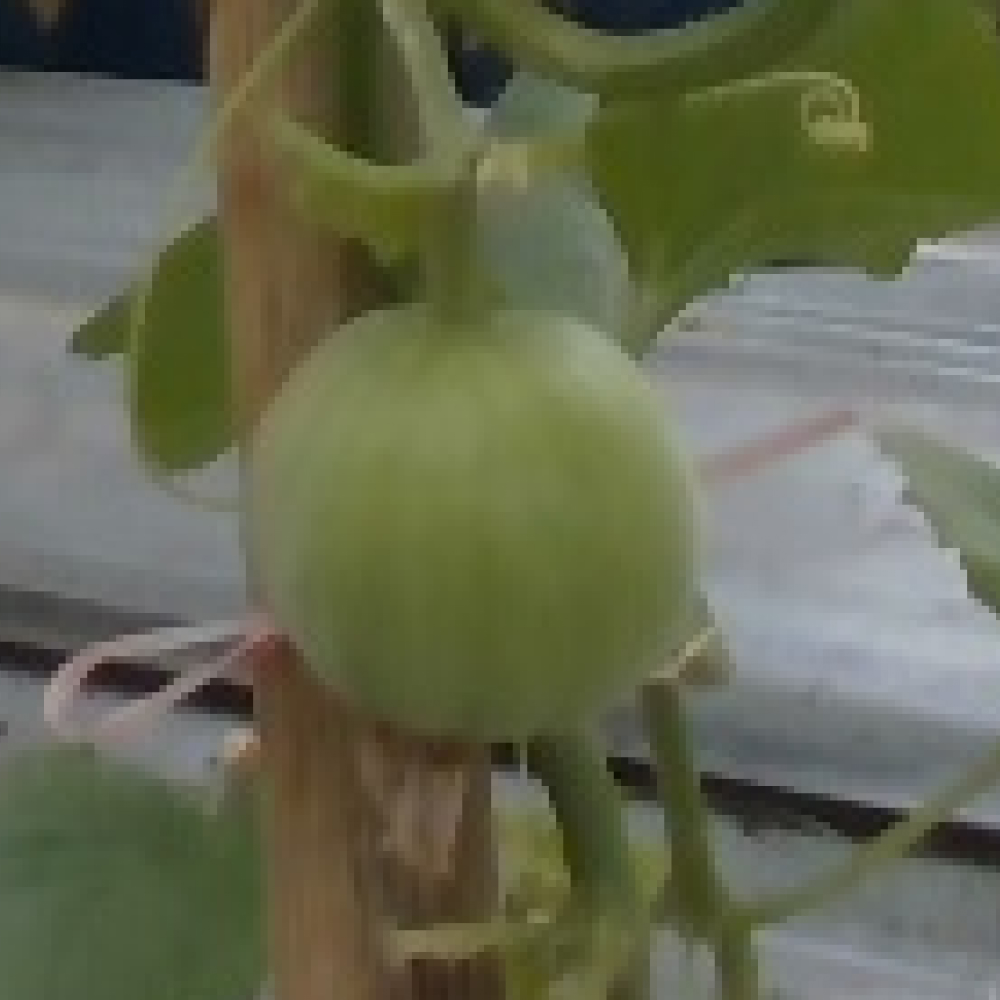melon: (237, 294, 705, 744)
